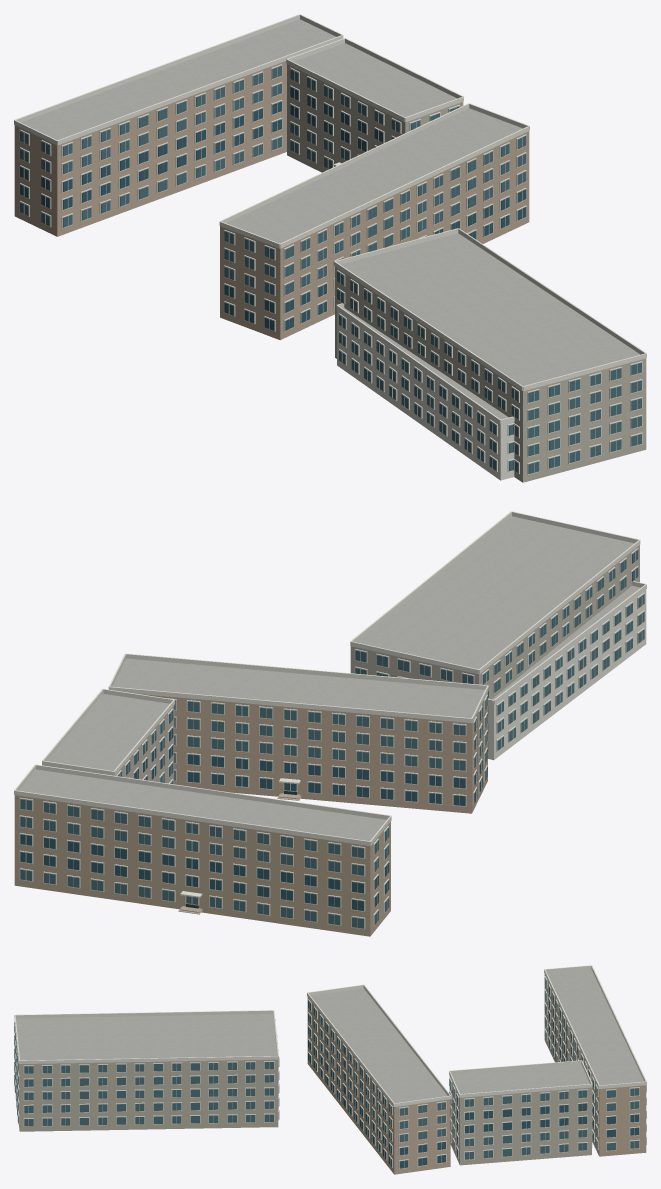
Rendered from chunk-n3-p2.glb.
3 renders of one model, top to bottom at view 1: azimuth 30°, elevation 25°; view 2: azimuth 150°, elevation 25°; view 3: azimuth 270°, elevation 25°, orthographic. The views are drawn at different scales.
Parts seen in each view (by area): view 1: chunk-n3-p2; view 2: chunk-n3-p2; view 3: chunk-n3-p2.
Part boxes in pixels (x1,y1,x2,y2): chunk-n3-p2: (14, 14, 646, 482); chunk-n3-p2: (14, 511, 646, 936); chunk-n3-p2: (14, 965, 646, 1174).
Size of the model in its own units: 74.07 by 19.76 by 144.
9 materials, 3 textured.
